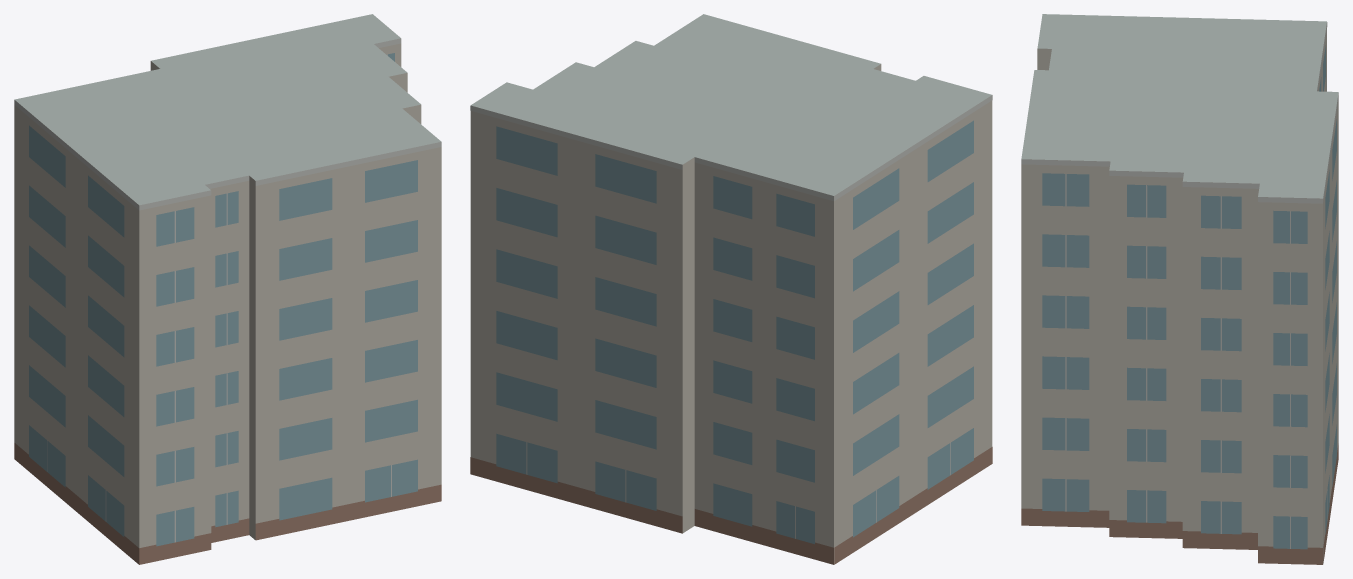
The model's file is survey-upis-32929804.glb.
3 renders of one model, left to right at view 1: azimuth 30°, elevation 25°; view 2: azimuth 150°, elevation 25°; view 3: azimuth 270°, elevation 25°, orthographic. The views are drawn at different scales.
Visible parts, largest first — view 1: survey-upis-32929804.tmp; view 2: survey-upis-32929804.tmp; view 3: survey-upis-32929804.tmp.
Part boxes in pixels (x1,y1,x2,y2): survey-upis-32929804.tmp: [14, 14, 441, 564]; survey-upis-32929804.tmp: [470, 14, 992, 564]; survey-upis-32929804.tmp: [1021, 14, 1338, 564].
Size of the model in its own units: 18.37 by 17 by 13.36.
